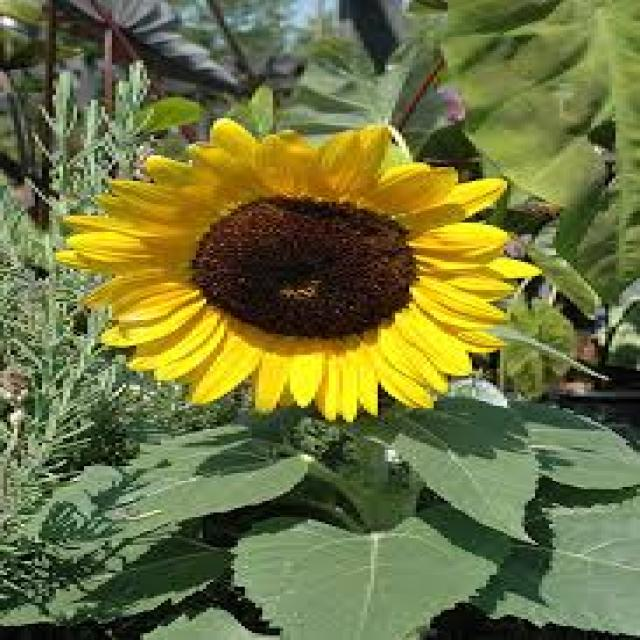sunflower: (51, 109, 548, 426)
